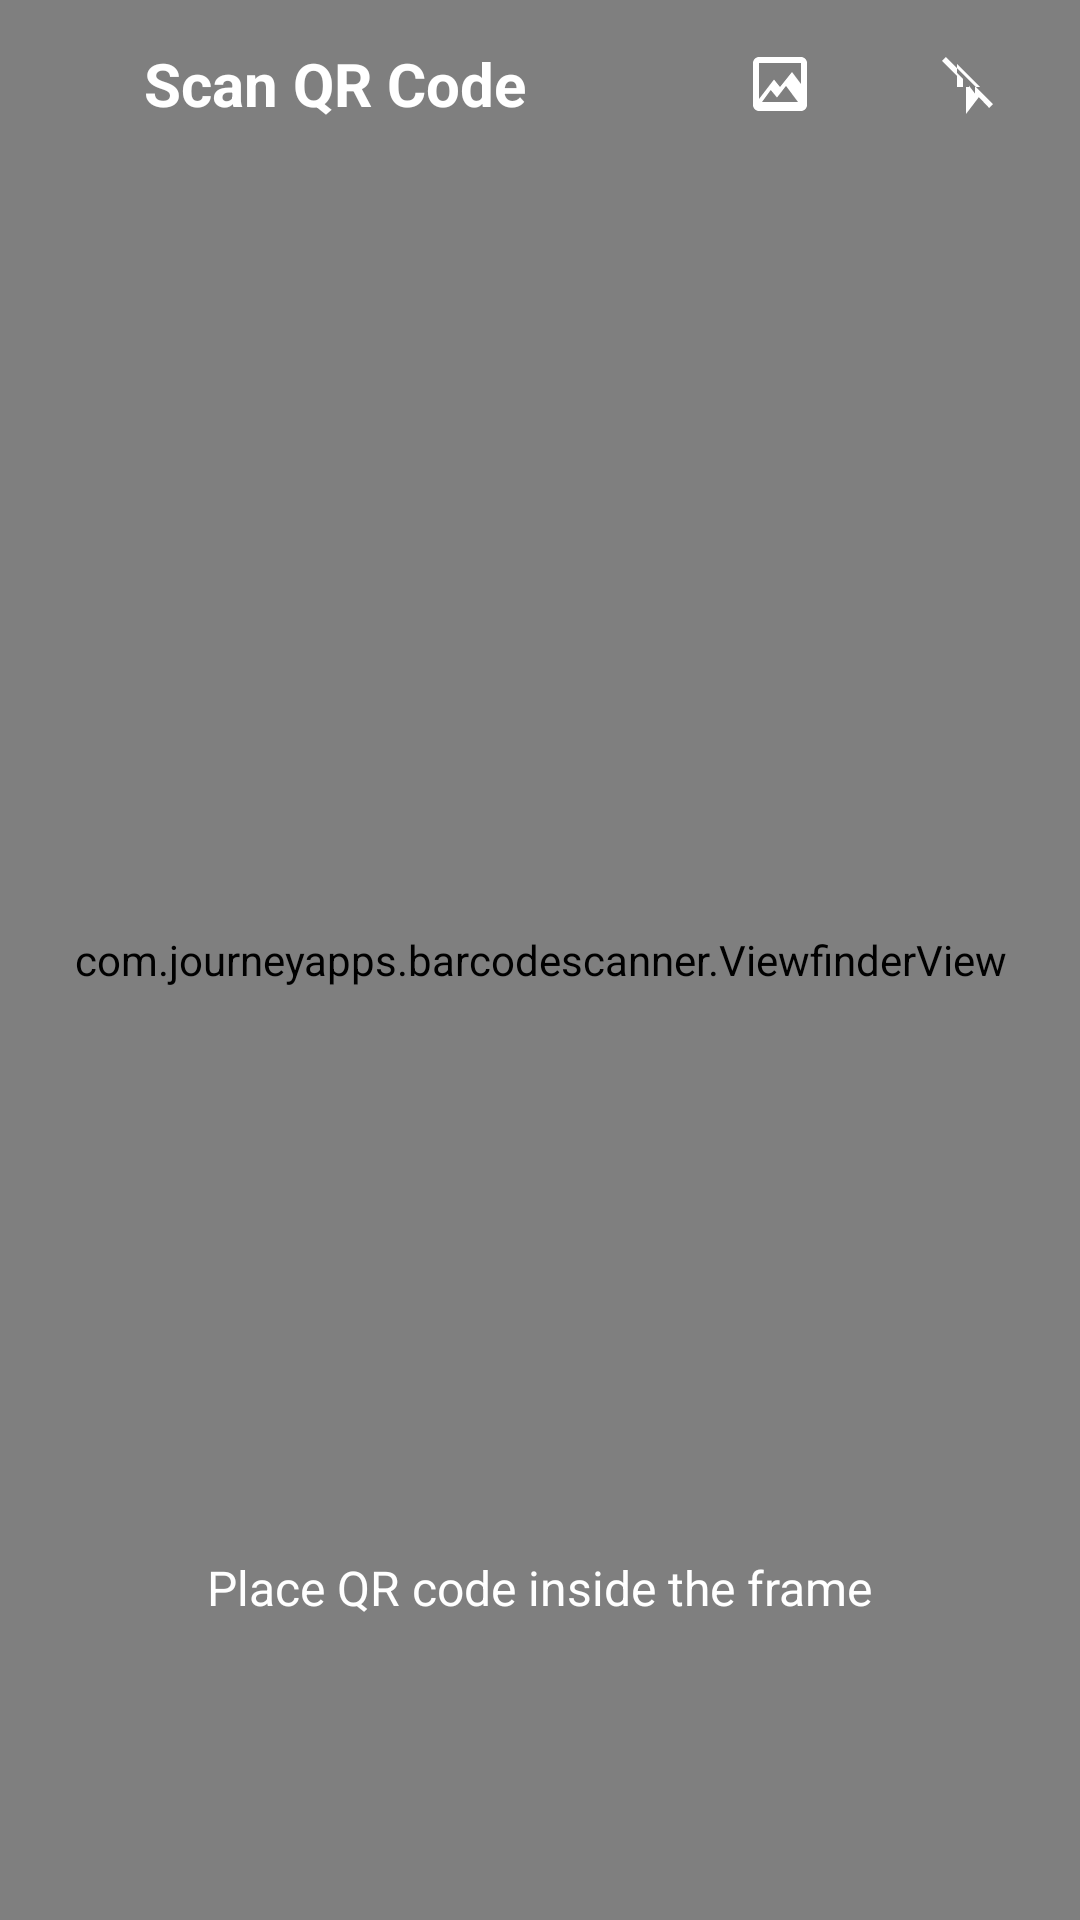

Screen size 1080px×1920px. Icon name, then its box in pixels as BBox(x1, y1, x2, y2):
Toggle Flashlight: BBox(942, 57, 993, 114)
Upload QR from Gallery: BBox(753, 57, 807, 111)
